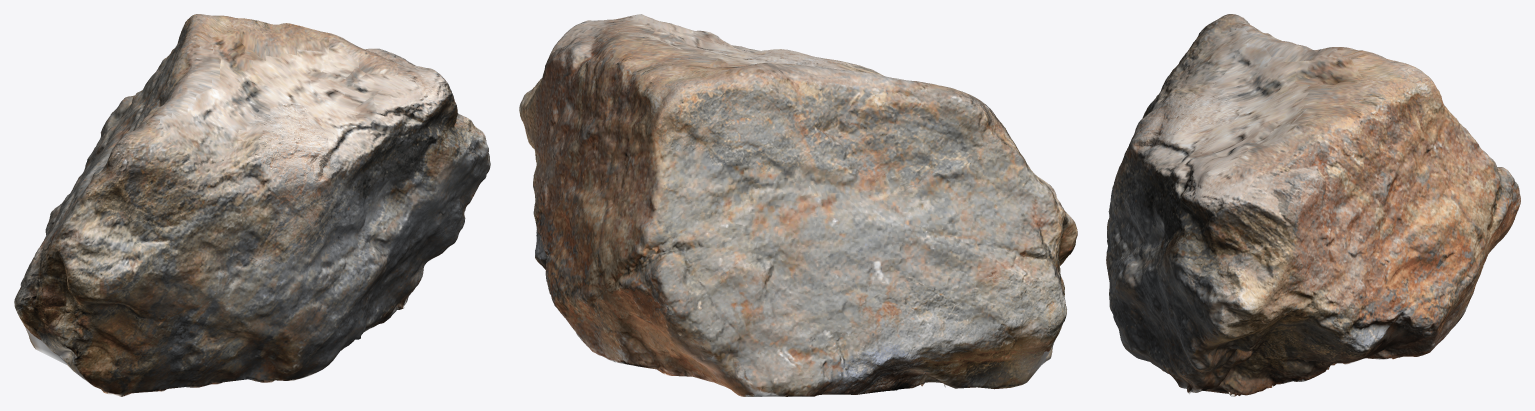
The model's file is sparse1.glb.
The picture shows the model from 3 angles, left to right: view 1: azimuth 30°, elevation 25°; view 2: azimuth 150°, elevation 25°; view 3: azimuth 270°, elevation 25°; orthographic projection. The views are drawn at different scales.
Visible parts, largest first — view 1: Node; view 2: Node; view 3: Node.
Part boxes in pixels (bbox=[...]): Node: bbox=[14, 14, 490, 396]; Node: bbox=[519, 14, 1077, 396]; Node: bbox=[1106, 14, 1520, 396].
Size of the model in its own units: 4.89 by 2.75 by 3.47.
1 material, 1 textured.
